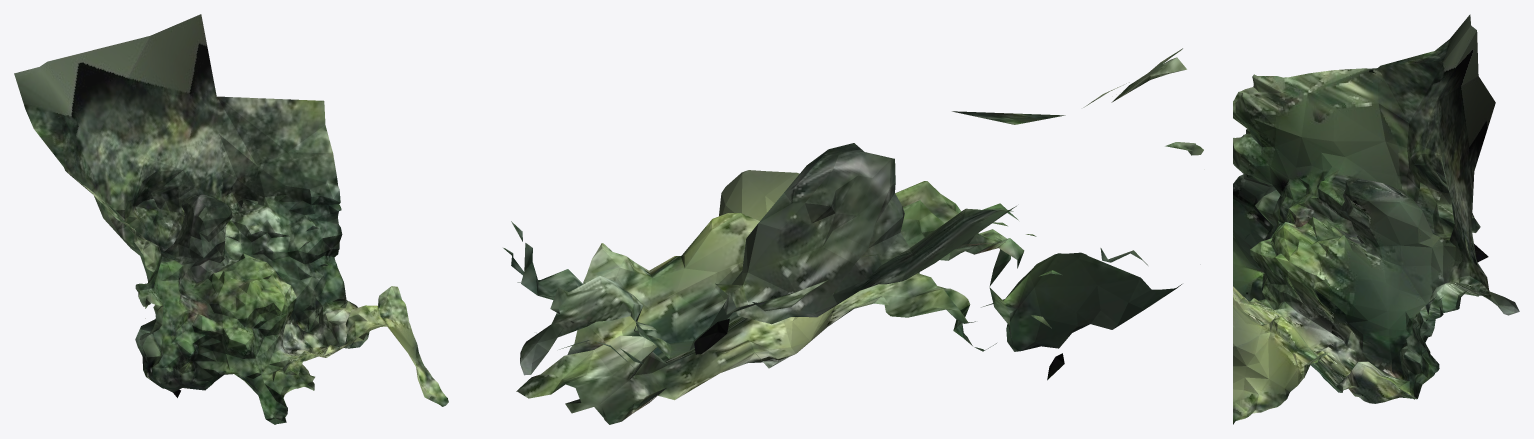
3 views of the same model, side by side, from view 1: azimuth 30°, elevation 25°; view 2: azimuth 150°, elevation 25°; view 3: azimuth 270°, elevation 25° (orthographic). The views are drawn at different scales.
Bounding box in the file's own units: 26.11 × 25.47 × 23.7.
Materials: 4 (4 with a texture image).
